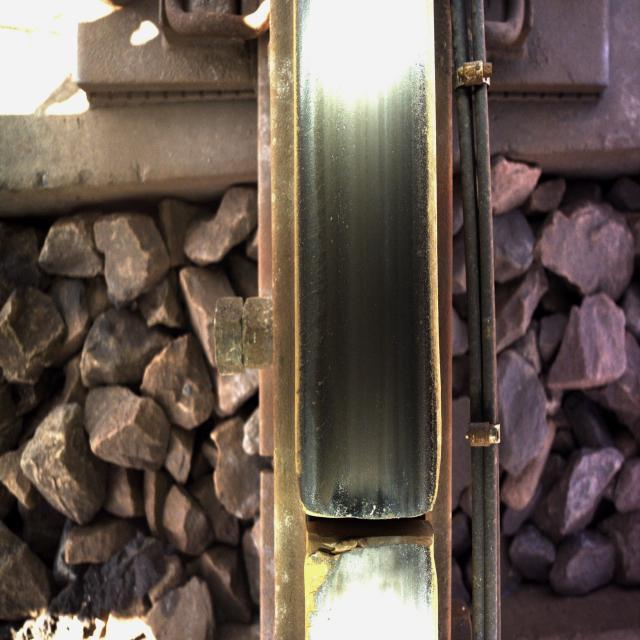spalling: (272, 455, 472, 604)
